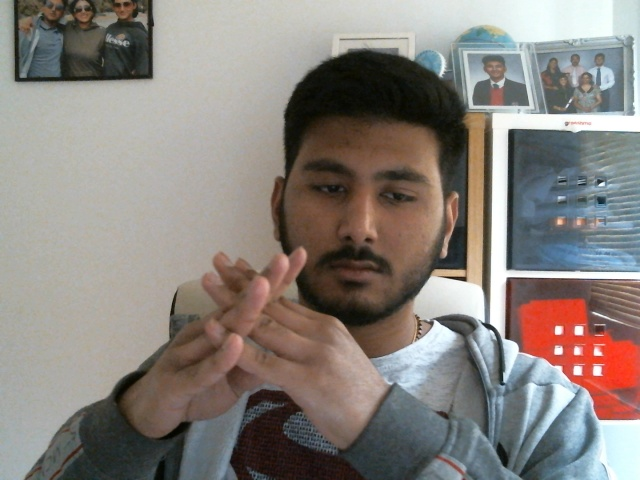how: (160, 246, 340, 394)
